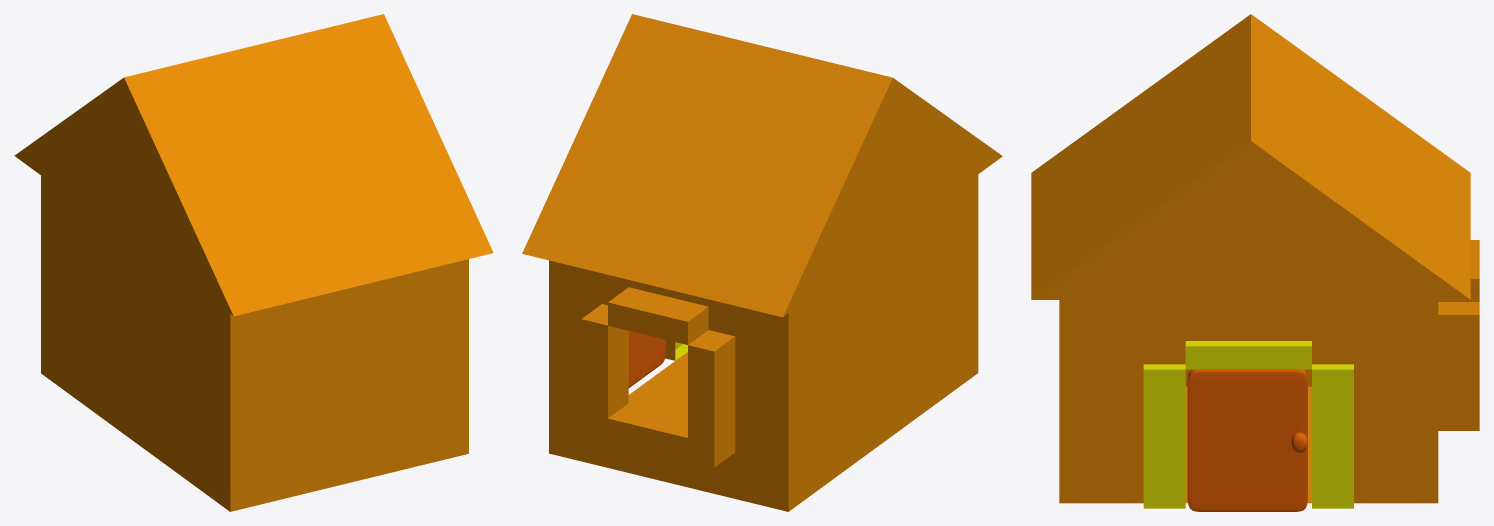
The model's file is G1_homeModelImran.fbx.
3 renders of one model, left to right at view 1: azimuth 30°, elevation 25°; view 2: azimuth 150°, elevation 25°; view 3: azimuth 270°, elevation 25°, orthographic.
Visible parts, largest first — view 1: pCube2; view 2: pCube2, pCube3; view 3: pCube2, pCube3.
Boxes of the visible parts, x1,y1,x2,y2 form: pCube2: (14,14,493,511); pCube2: (522,14,1002,511); pCube3: (628,331,666,387); pCube2: (1031,14,1479,508); pCube3: (1187,369,1307,511).
Size of the model in its own units: 16.7 by 21.59 by 23.78.
